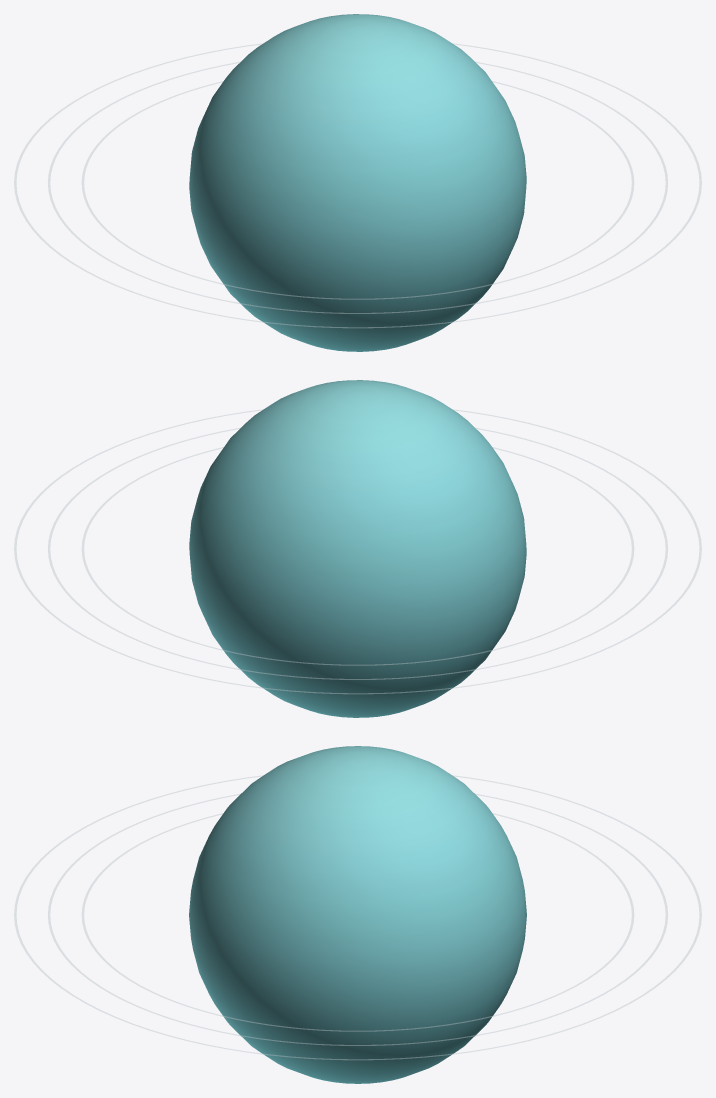
The model's file is uranus.glb.
3 views of the same model, one above another, from view 1: azimuth 30°, elevation 25°; view 2: azimuth 150°, elevation 25°; view 3: azimuth 270°, elevation 25° (orthographic).
Bounding box in the file's own units: 4.07 × 2 × 4.07.
Materials: 4 (1 with a texture image).
